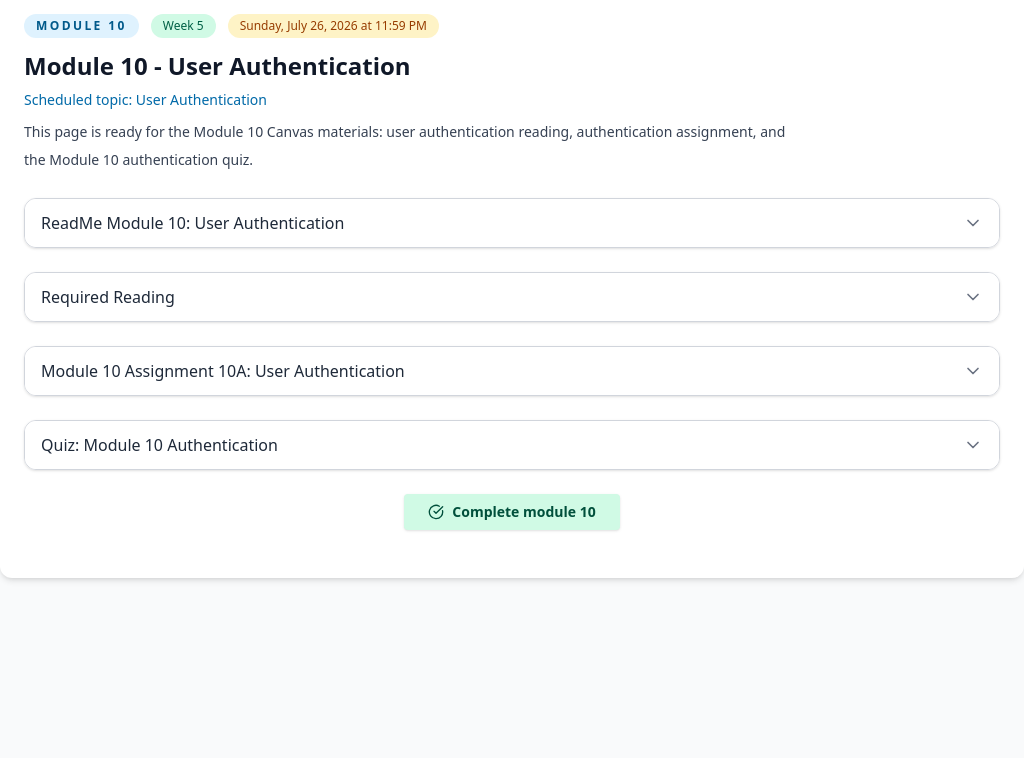
Test: <AssignmentMod10 /> › renders the Module 10 ReadMe introduction and task list
Click the button "ReadMe Module 10: User Authentication" at (193, 223), box [25,199,999,247]
(page scrolled)
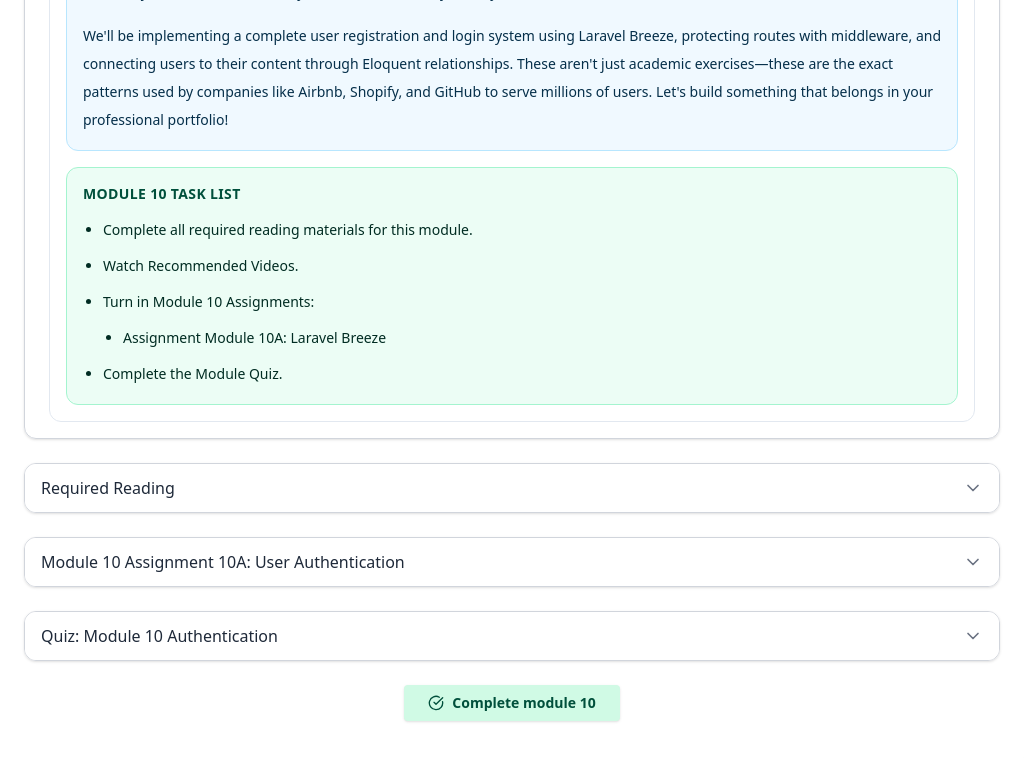
Now the heading "Module 10 Task List" is shown, box [83,184,241,203]
Now the list item "Assignment Module 10A: Laravel Breeze" is shown, box [123,328,386,347]
Now the list item "Complete the Module Quiz." is shown, box [103,364,282,383]
